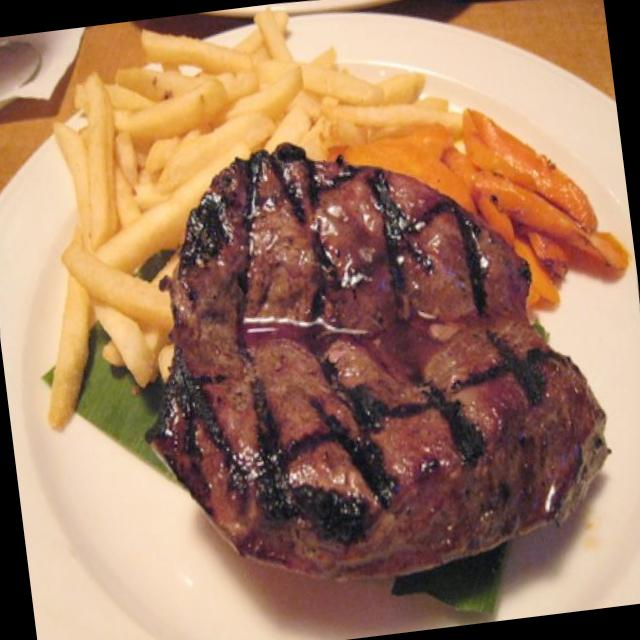Chicken: (150, 143, 586, 578)
